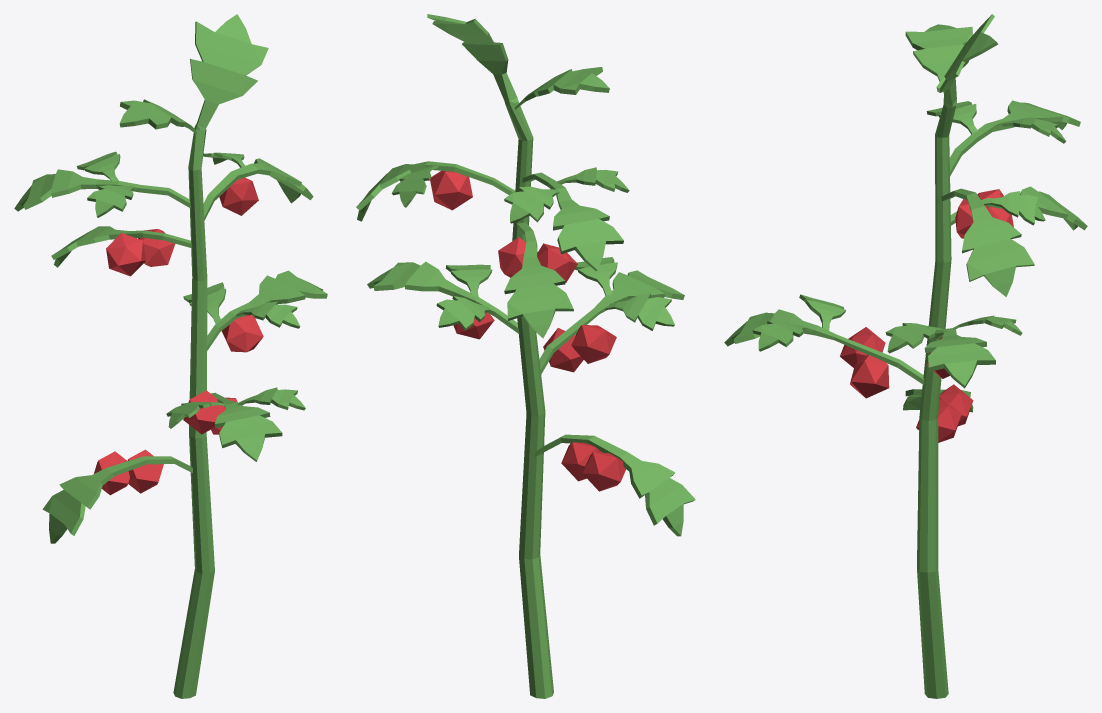
Rendered from Tomato_4-optimized.glb.
The picture shows the model from 3 angles, left to right: view 1: azimuth 30°, elevation 25°; view 2: azimuth 150°, elevation 25°; view 3: azimuth 270°, elevation 25°; orthographic projection. The views are drawn at different scales.
Parts seen in each view (by area): view 1: Tomato_4; view 2: Tomato_4; view 3: Tomato_4.
Boxes of the visible parts, x1,y1,x2,y2 form: Tomato_4: [14, 14, 327, 698]; Tomato_4: [356, 14, 695, 698]; Tomato_4: [724, 14, 1087, 698].
Size of the model in its own units: 0.7932 by 1.72 by 0.81.
